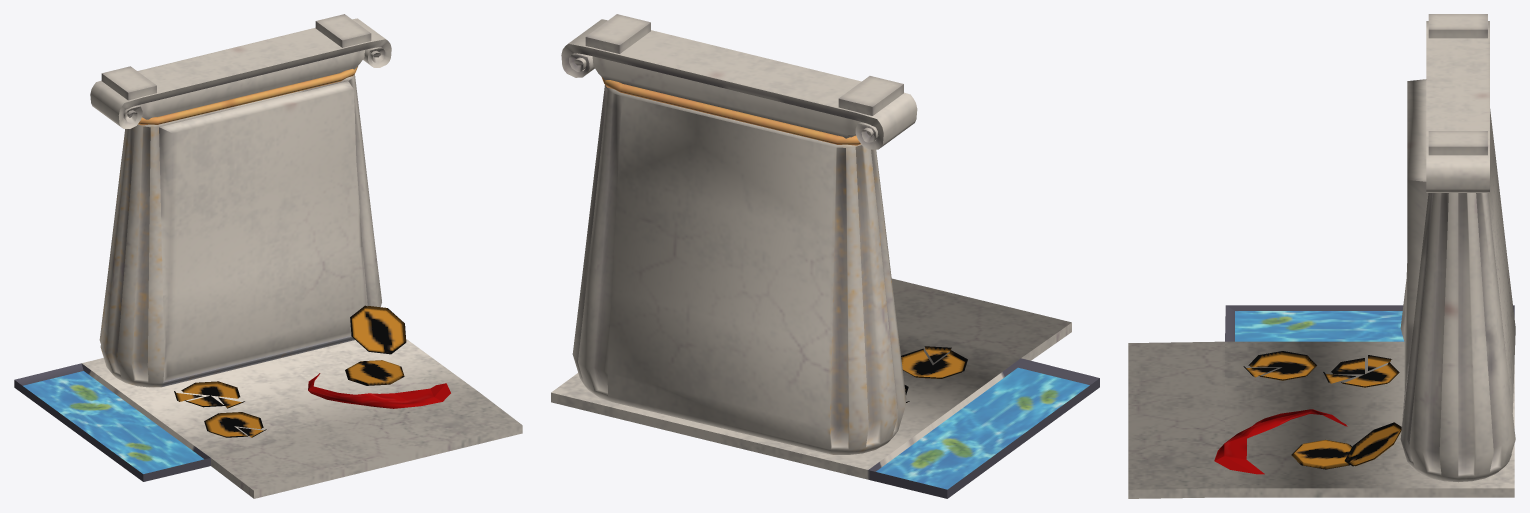
File: platsholder_broken.fbx
3 views of the same model, side by side, from view 1: azimuth 30°, elevation 25°; view 2: azimuth 150°, elevation 25°; view 3: azimuth 270°, elevation 25° (orthographic). The views are drawn at different scales.
Parts seen in each view (by area): view 1: plates_broken1; view 2: plates_broken1; view 3: plates_broken1.
Part boxes in pixels (box(x1,y1,x2,y2)): plates_broken1: box(14, 14, 522, 498); plates_broken1: box(551, 14, 1099, 498); plates_broken1: box(1128, 14, 1515, 498).
Size of the model in its own units: 395 by 342 by 350.
